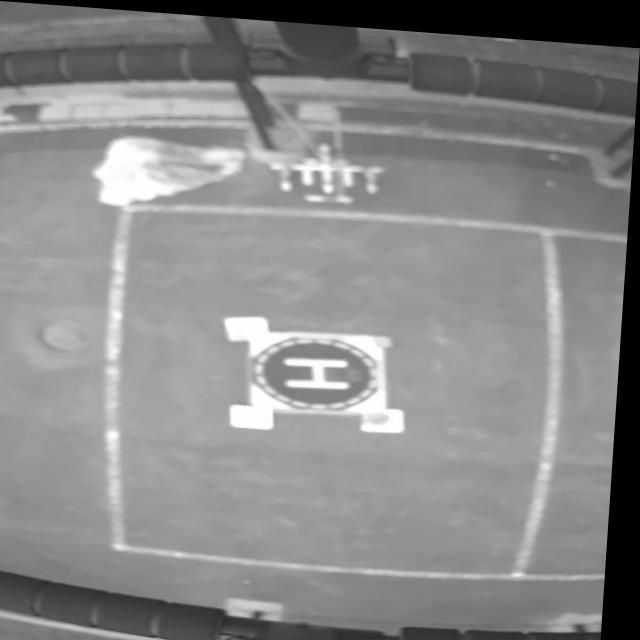Helipad: (287, 351, 357, 383)
